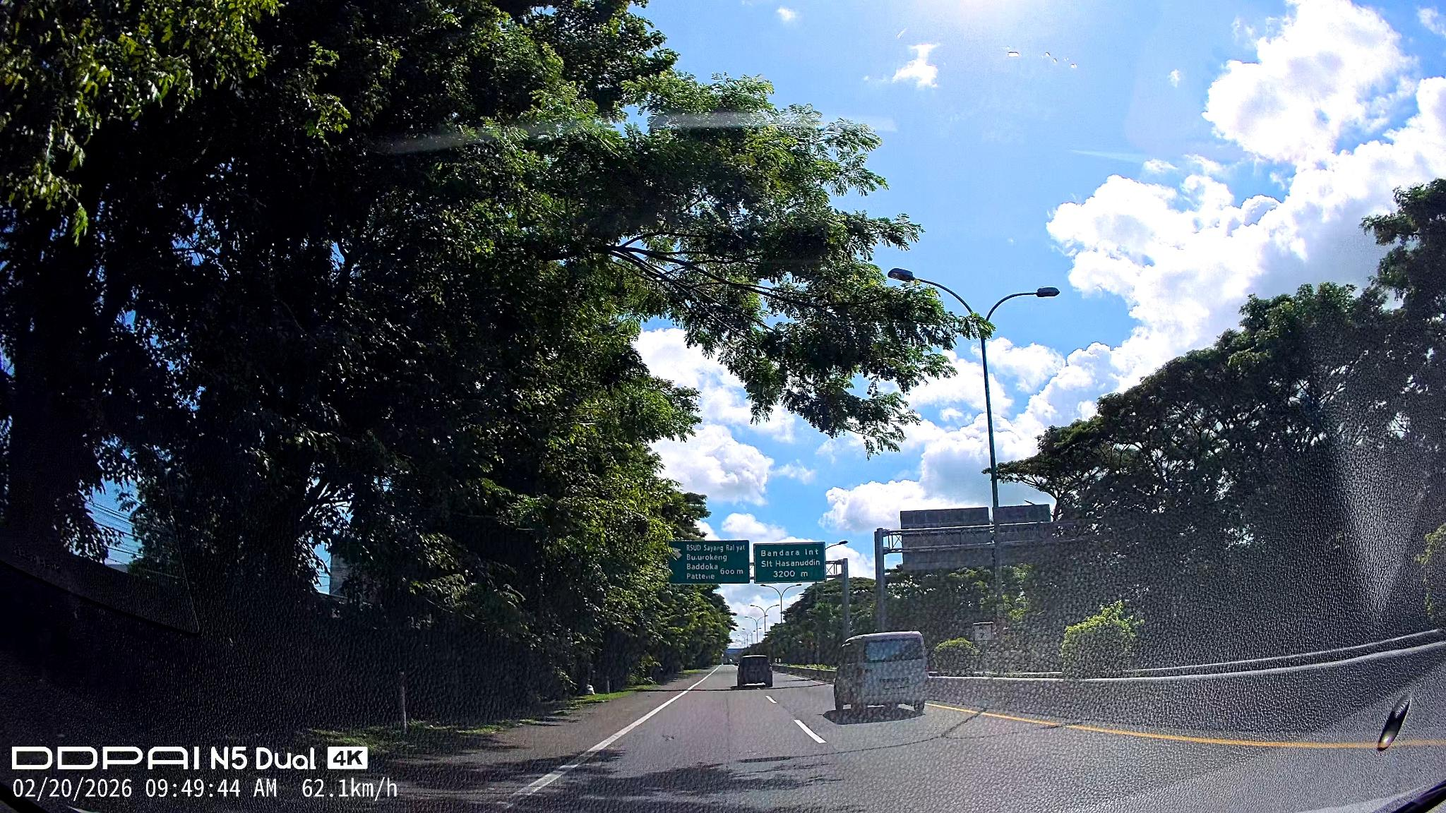rambu_teks: (668, 540, 750, 584), (753, 541, 827, 584)
